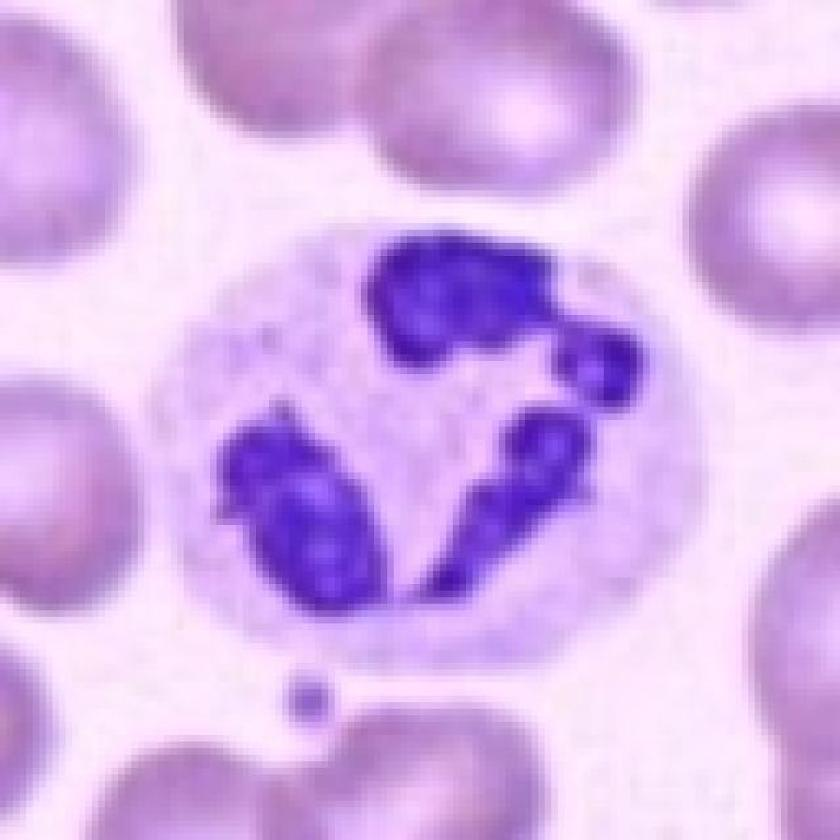neutrophil: (109, 169, 741, 602)
